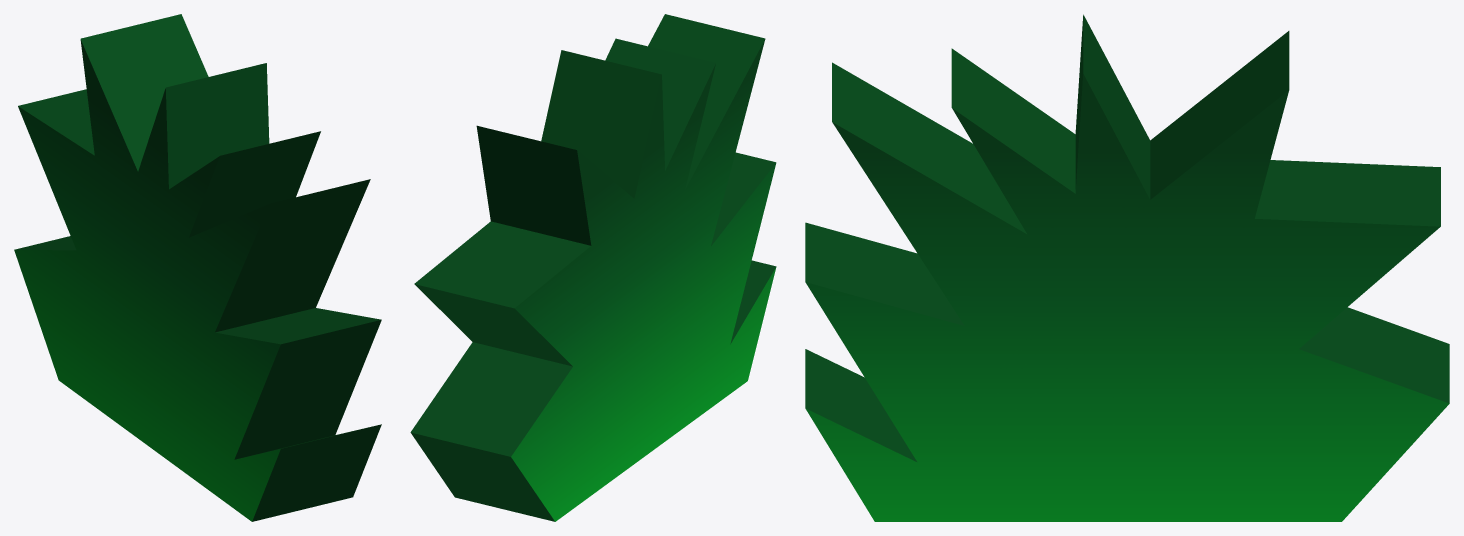
The model's file is seto.fbx.
3 renders of one model, left to right at view 1: azimuth 30°, elevation 25°; view 2: azimuth 150°, elevation 25°; view 3: azimuth 270°, elevation 25°, orthographic. The views are drawn at different scales.
Parts seen in each view (by area): view 1: Cubo.001; view 2: Cubo.001; view 3: Cubo.001.
Part boxes in pixels (x1=…): Cubo.001: x1=14, y1=14, x2=381, y2=521; Cubo.001: x1=410, y1=14, x2=776, y2=521; Cubo.001: x1=805, y1=14, x2=1449, y2=521.
Bounding box in the file's own units: 30.94 × 109 × 142.
